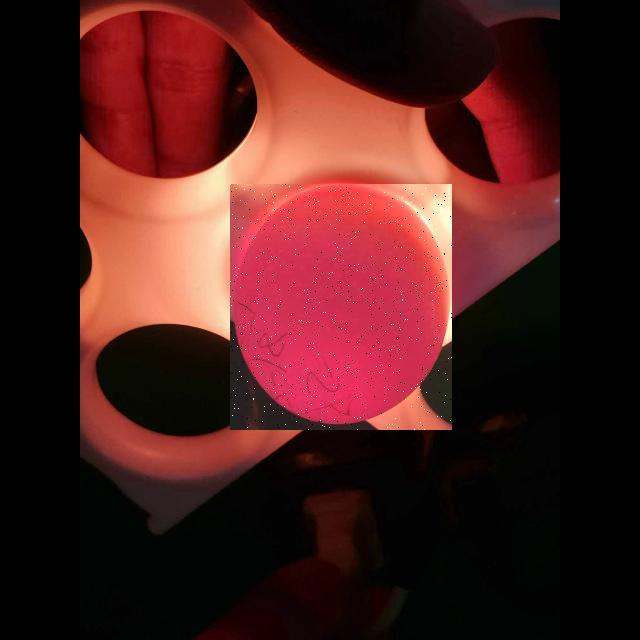Infertile: (230, 184, 452, 430)
